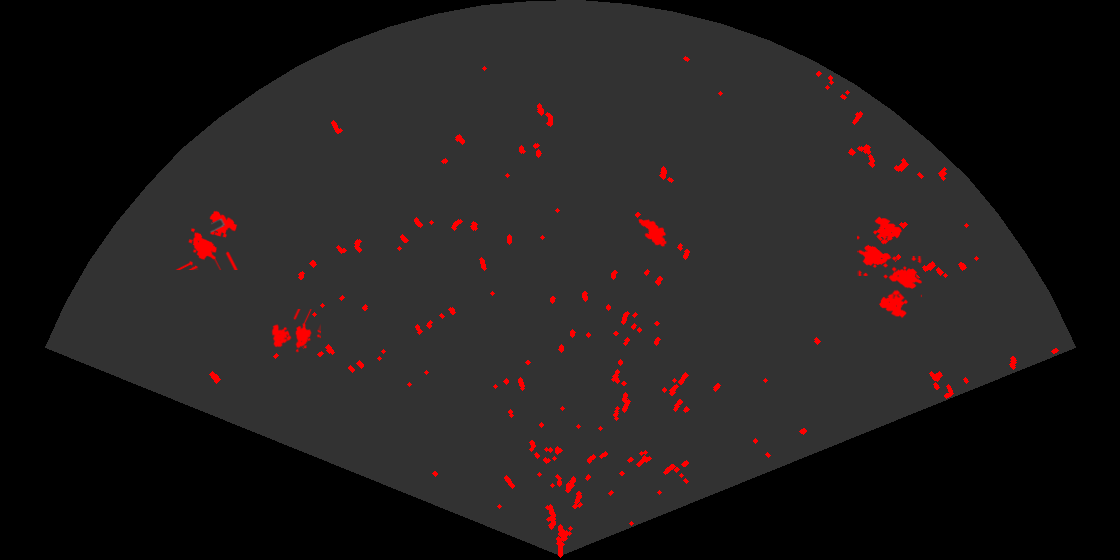AUV: (637, 217, 668, 248)
cage: (174, 209, 239, 270), (877, 256, 922, 320), (857, 215, 904, 276), (270, 309, 321, 354)
